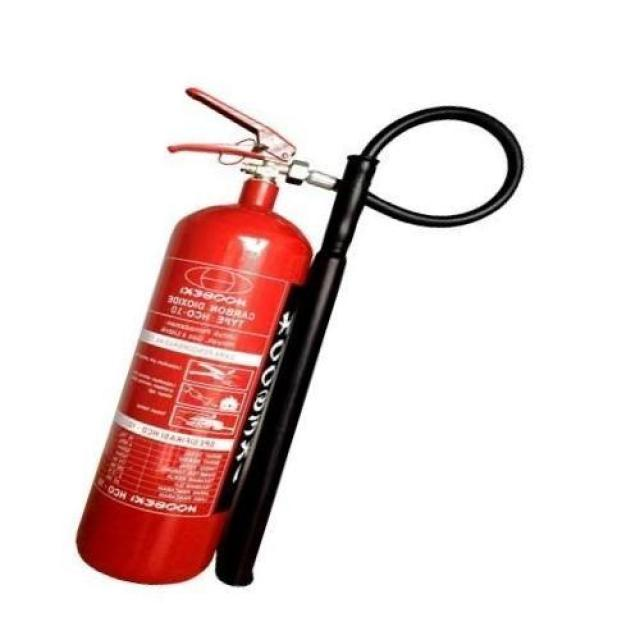fire_extinguisher: (69, 78, 530, 590)
